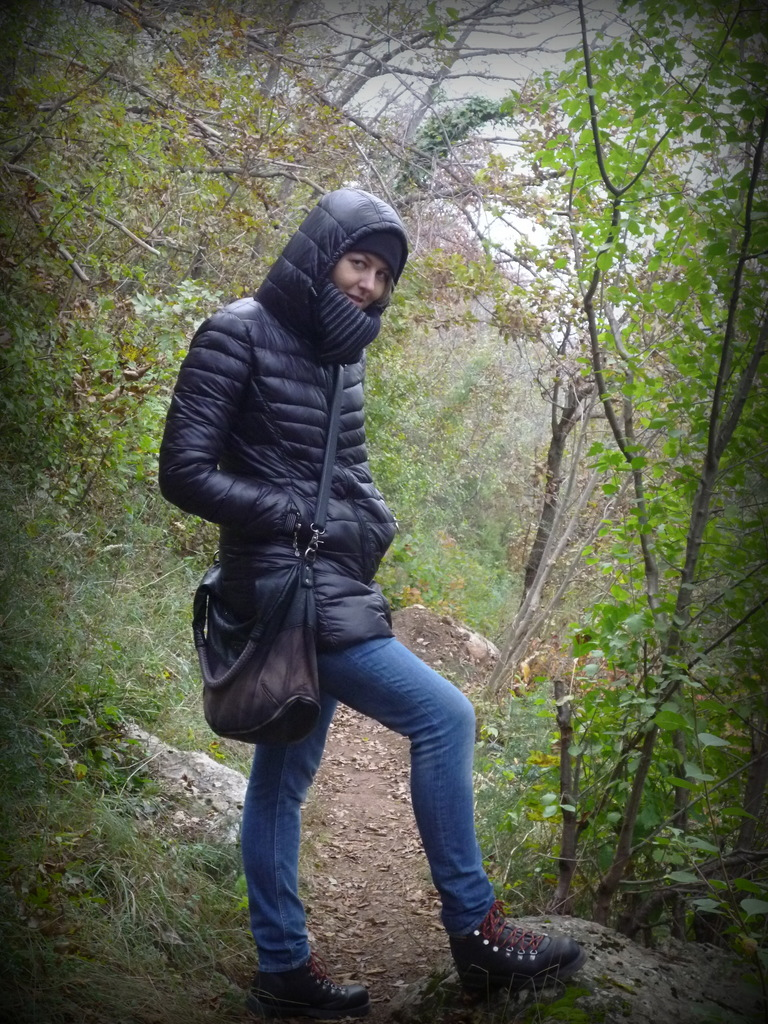Tree: (268, 0, 539, 1023), (0, 0, 261, 1023), (480, 0, 767, 906)
